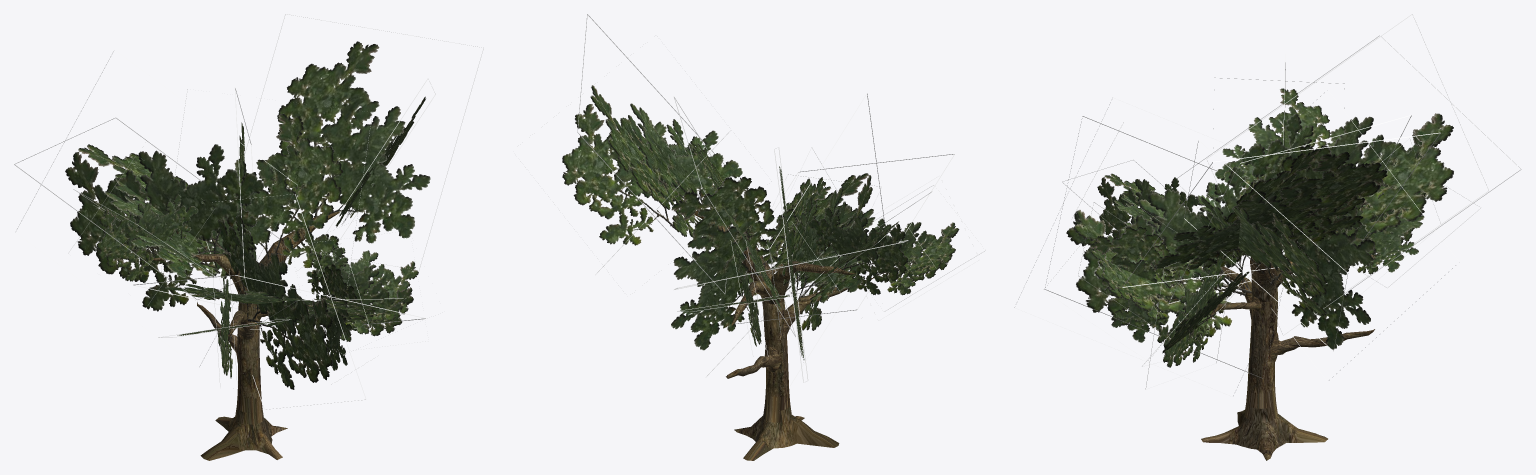
Rendered from Tree.fbx.
3 renders of one model, left to right at view 1: azimuth 30°, elevation 25°; view 2: azimuth 150°, elevation 25°; view 3: azimuth 270°, elevation 25°, orthographic. The views are drawn at different scales.
Visible parts, largest first — view 1: cube11, cube4, cube14, cube5, cylinder, cube17, cube2, cube16, cube10, cube1, cube15, cube12 (+5 smaller); view 2: cube13, cube12, cube11, cylinder, cube2, cube10, cube5, cube6, cube14, cube, cube4, cube1 (+6 smaller); view 3: cube11, cube17, cube13, cylinder, cube5, cube10, cube12, cube4, cube1, cube7, cube16, cube14 (+7 smaller).
Boxes of the visible parts, x1=… form: cube11: x1=231, y1=14, x2=483, y2=270; cube4: x1=15, y1=49, x2=297, y2=367; cube14: x1=159, y1=89, x2=372, y2=285; cube5: x1=206, y1=194, x2=366, y2=409; cylinder: x1=200, y1=211, x2=341, y2=460; cube17: x1=14, y1=117, x2=288, y2=299; cube2: x1=68, y1=156, x2=214, y2=304; cube16: x1=293, y1=232, x2=428, y2=351; cube10: x1=133, y1=275, x2=426, y2=328; cube1: x1=295, y1=242, x2=378, y2=384; cube15: x1=306, y1=243, x2=418, y2=334; cube12: x1=325, y1=78, x2=435, y2=242; cube13: x1=595, y1=130, x2=831, y2=376; cube12: x1=520, y1=36, x2=771, y2=291; cube11: x1=577, y1=14, x2=734, y2=293; cylinder: x1=694, y1=211, x2=839, y2=460; cube2: x1=792, y1=170, x2=935, y2=318; cube10: x1=719, y1=154, x2=954, y2=325; cube5: x1=769, y1=93, x2=884, y2=387; cube6: x1=857, y1=185, x2=985, y2=311; cube14: x1=674, y1=97, x2=795, y2=336; cube: x1=863, y1=176, x2=978, y2=320; cube4: x1=774, y1=147, x2=808, y2=382; cube1: x1=764, y1=147, x2=843, y2=295; cube11: x1=1122, y1=132, x2=1440, y2=287; cube17: x1=1177, y1=35, x2=1521, y2=314; cube13: x1=1196, y1=90, x2=1459, y2=381; cylinder: x1=1201, y1=249, x2=1327, y2=460; cube5: x1=1014, y1=97, x2=1282, y2=396; cube10: x1=1044, y1=116, x2=1284, y2=378; cube12: x1=1184, y1=140, x2=1348, y2=351; cube4: x1=1206, y1=14, x2=1488, y2=335; cube1: x1=1045, y1=197, x2=1225, y2=360; cube7: x1=1212, y1=77, x2=1344, y2=197; cube16: x1=1145, y1=255, x2=1232, y2=389; cube14: x1=1168, y1=115, x2=1411, y2=303.
Size of the model in its own units: 66.92 by 56.1 by 65.92.
4 materials, 3 textured.
